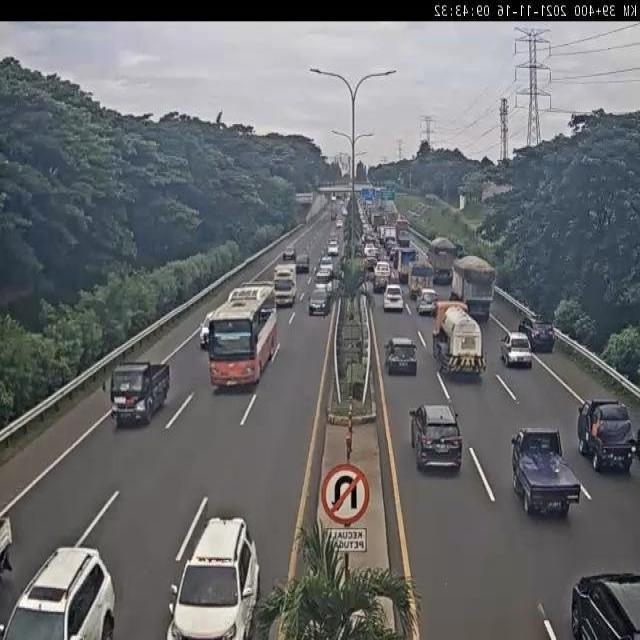Bus: (208, 280, 278, 392)
Car: (165, 514, 259, 638), (0, 546, 114, 639), (512, 427, 583, 516), (571, 570, 640, 640), (576, 400, 636, 472), (410, 401, 464, 475), (110, 360, 170, 426), (519, 314, 555, 354), (384, 337, 418, 376), (500, 331, 531, 368), (308, 285, 333, 317), (0, 516, 13, 577), (416, 288, 438, 316), (383, 284, 404, 313), (373, 261, 392, 293), (199, 315, 211, 350), (315, 264, 334, 285), (295, 252, 310, 273), (363, 252, 378, 273), (282, 246, 296, 261), (328, 239, 340, 256)
Truck: (433, 301, 487, 378), (452, 255, 495, 323), (273, 262, 296, 307)
